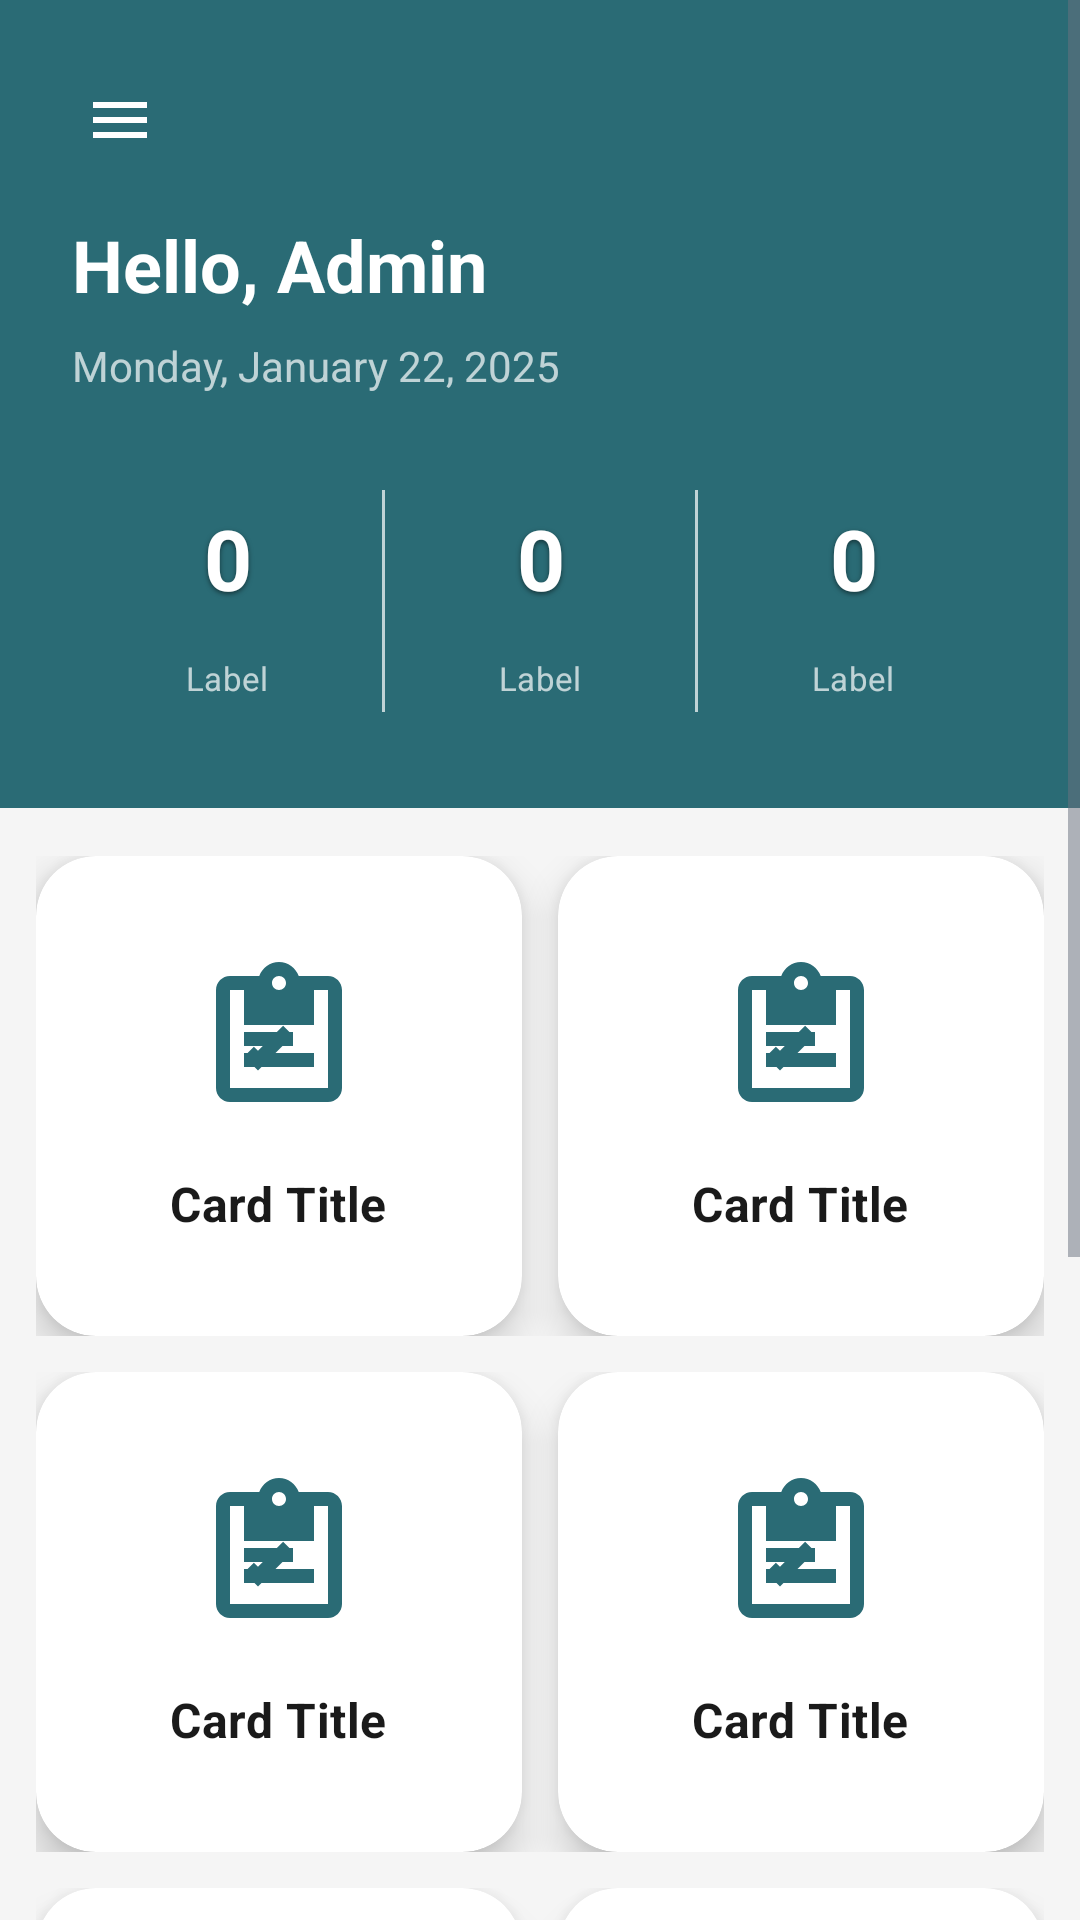

Icon click points for this 1080px x 1920px phone screenshot, format (x,y):
Menu: (120,120)
Officer List Management: (279,1032), (801,1032), (279,1548), (801,1548)
